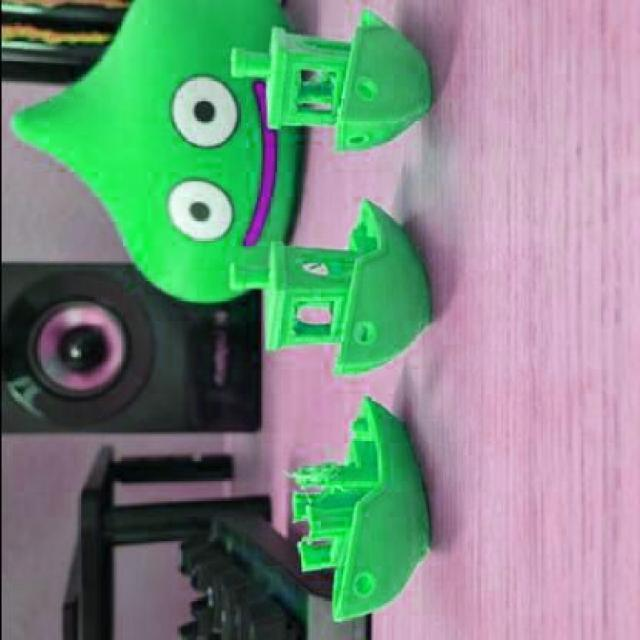spaghetti: (278, 450, 347, 504), (295, 535, 314, 548), (307, 263, 320, 271)
